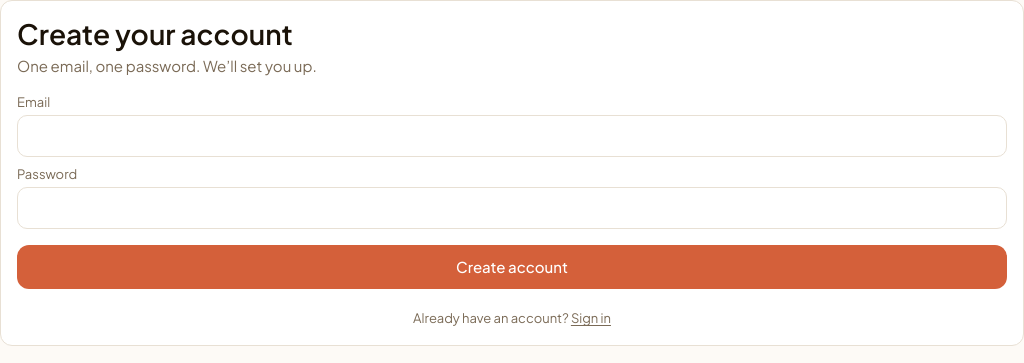
it: <SignUpPage> › no session + identities populated → AwaitingConfirmationCard
Type "new@test.local" into the field labelled "Email" at (512, 136), box [17,115,1007,157]
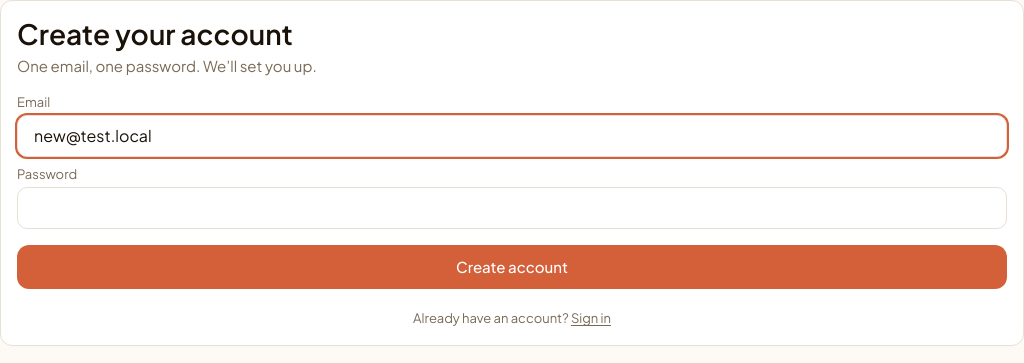
Type "Hunter2pass!" into the password field labelled "Password" at (512, 208), box [17,188,1007,230]
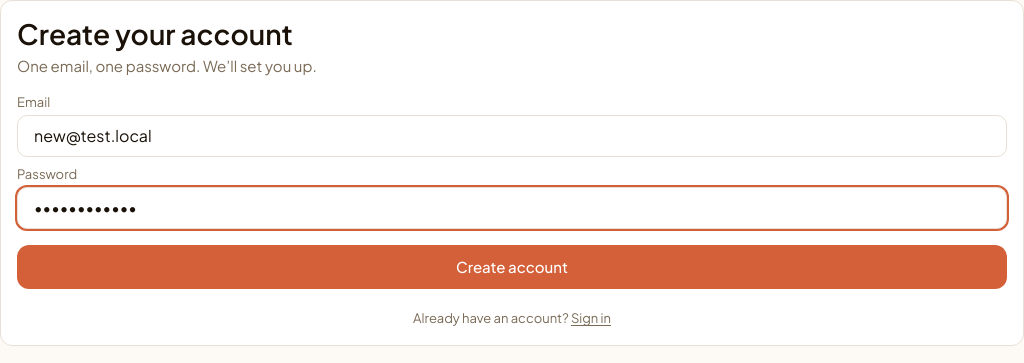
Click the button "Create account" at (512, 268), box [17,246,1007,290]
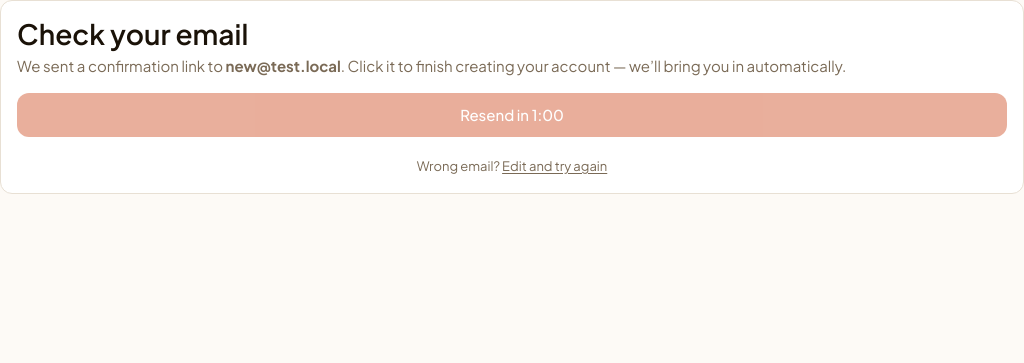
Result: the heading "Check your email" is shown at [17,16,248,51]
Result: the text "new@test.local" is shown at [226,56,341,75]
